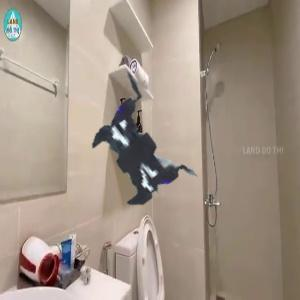drone: (19, 24, 270, 275)
